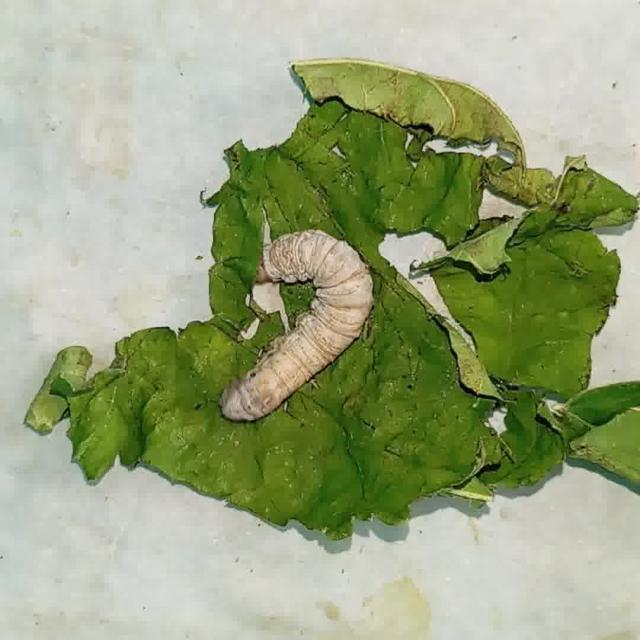Grasserie: (217, 202, 460, 449)
